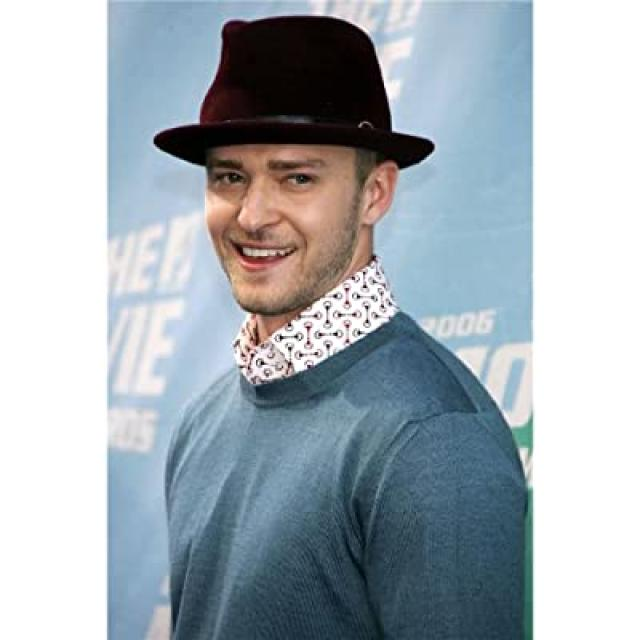hat: (149, 13, 437, 318)
